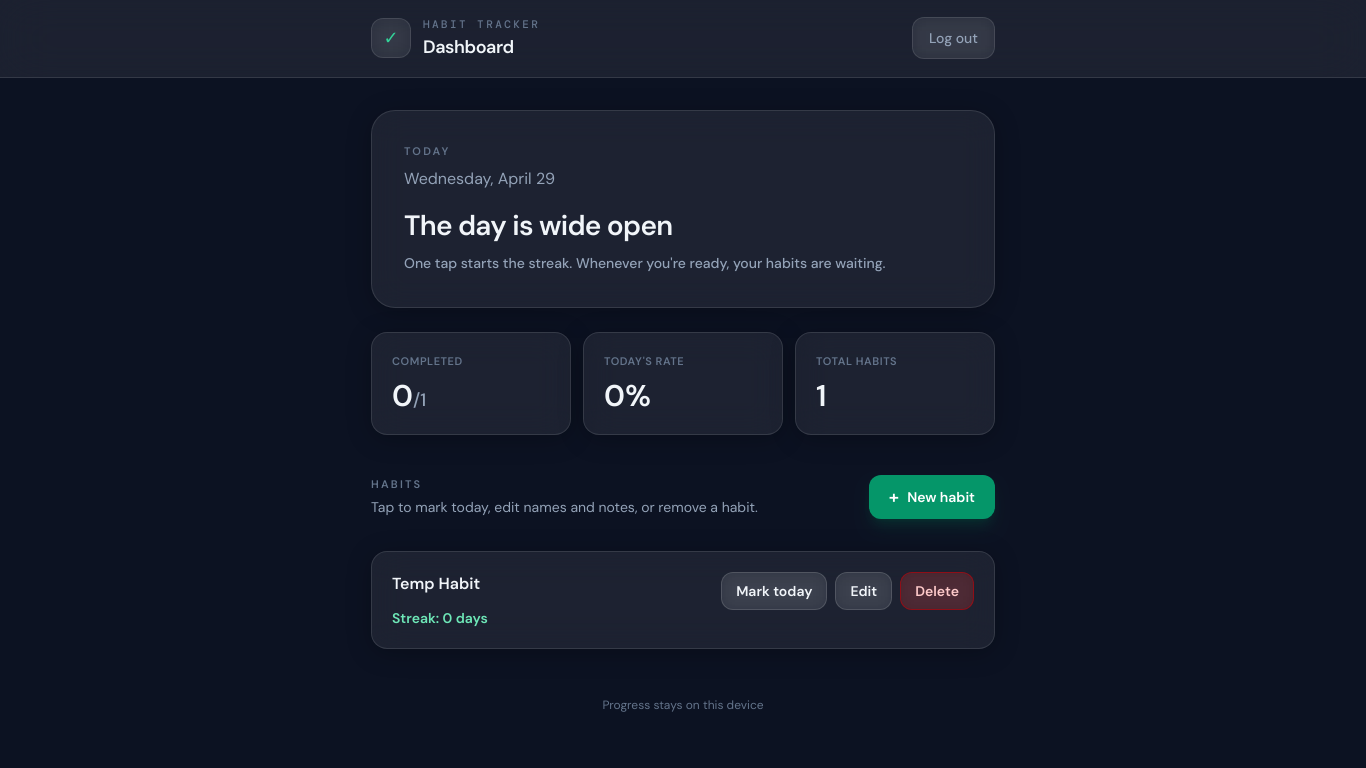
Test: habit form › deletes a habit only after explicit confirmation
Expected: the element with test id "habit-card-temp-habit" is shown, [371, 551, 995, 649]
Click the button with test id "habit-delete-temp-habit": (937, 591) [900, 572, 974, 610]
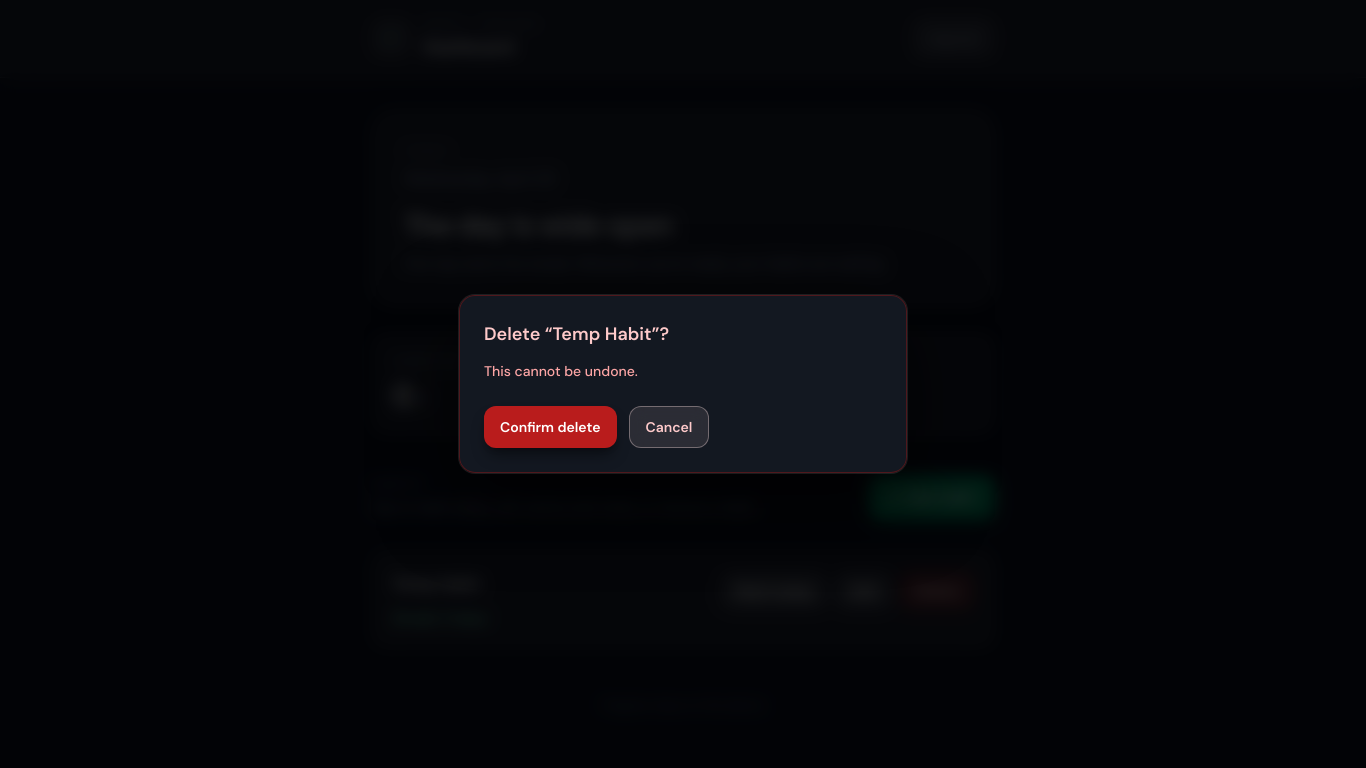
Now the button with test id "confirm-delete-button" is shown
Click the button with test id "confirm-delete-button": (550, 427) [484, 406, 616, 448]
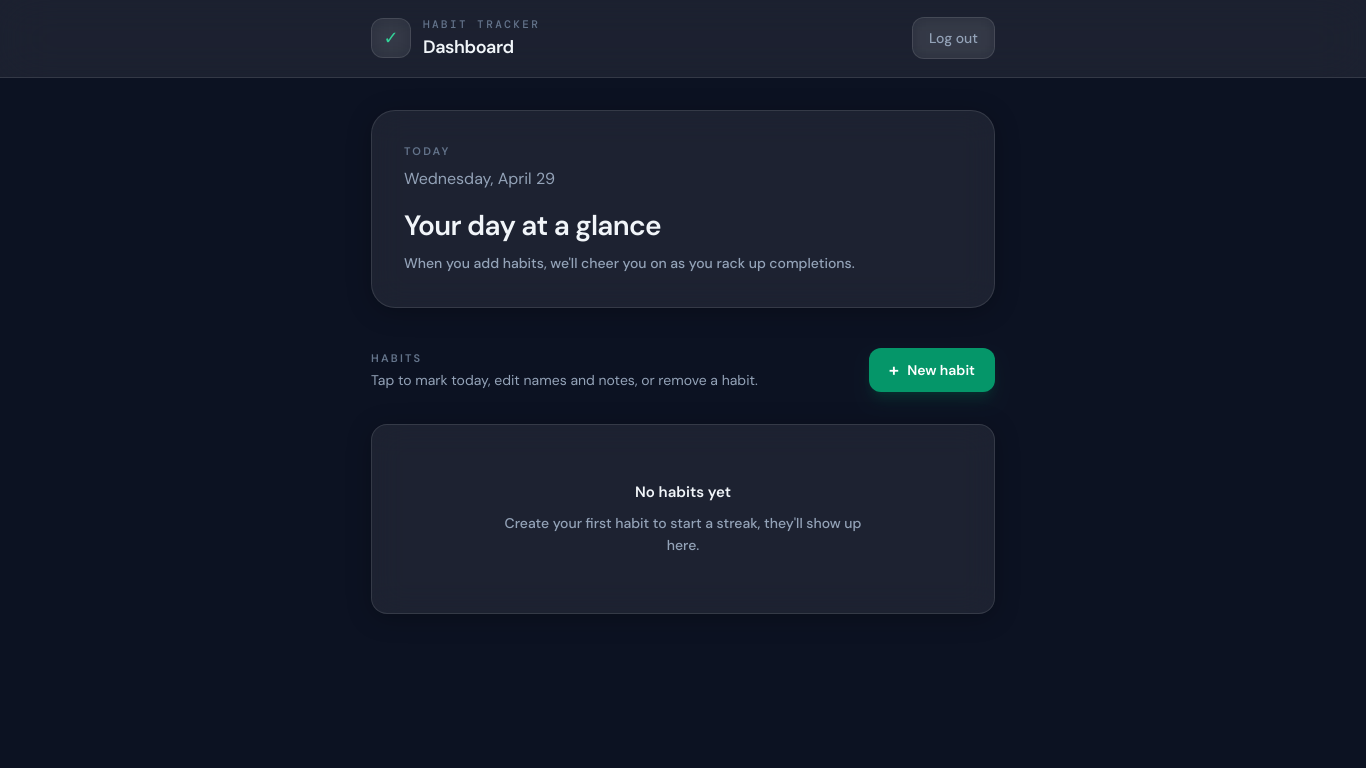
Now the element with test id "habit-card-temp-habit" is gone
